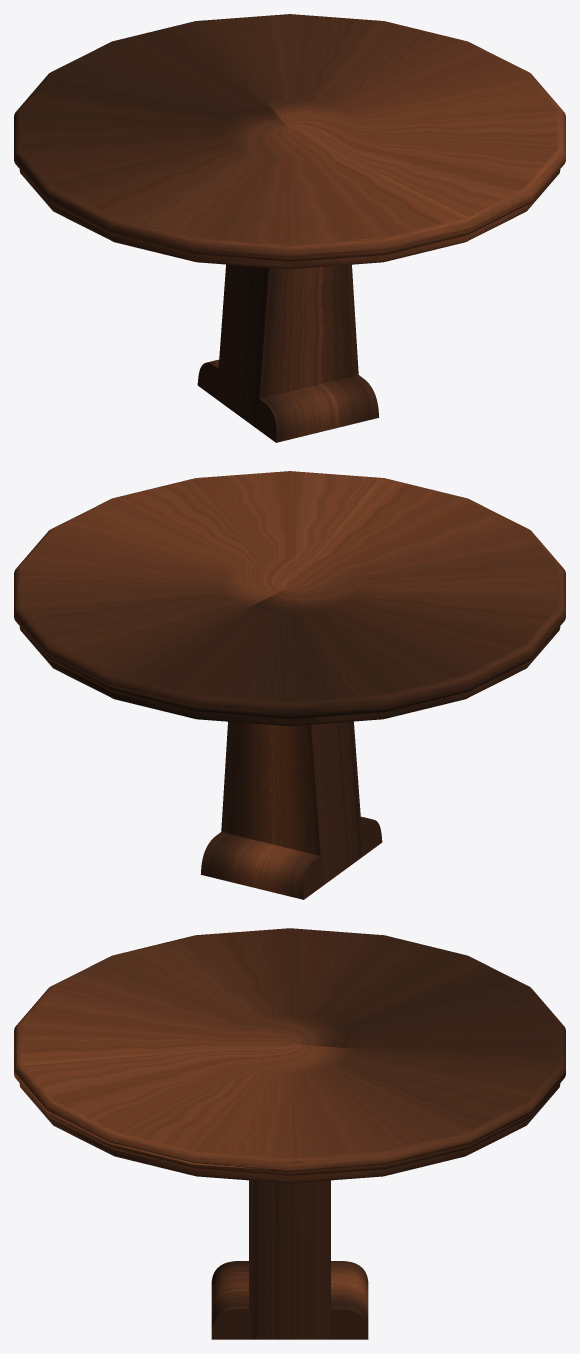
The model's file is Wooden Round Table.FBX.
3 views of the same model, one above another, from view 1: azimuth 30°, elevation 25°; view 2: azimuth 150°, elevation 25°; view 3: azimuth 270°, elevation 25° (orthographic).
Visible parts, largest first — view 1: Cylinder001, Box001; view 2: Cylinder001, Box001; view 3: Cylinder001, Box001.
Boxes of the visible parts, <box> form: Cylinder001: <box>14,14,565,269</box>; Box001: <box>197,264,379,442</box>; Cylinder001: <box>14,471,565,726</box>; Box001: <box>200,721,382,899</box>; Cylinder001: <box>14,928,565,1183</box>; Box001: <box>211,1180,368,1339</box>.
Bounding box in the file's own units: 60 × 32.06 × 59.09.
2 materials, 2 textured.
